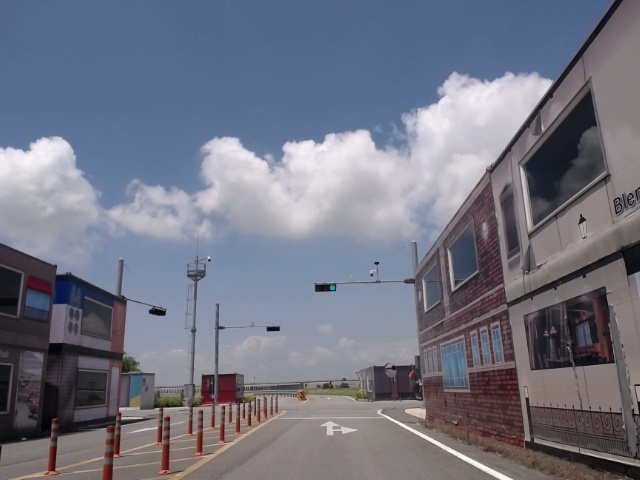green_3: (315, 284, 337, 291)
